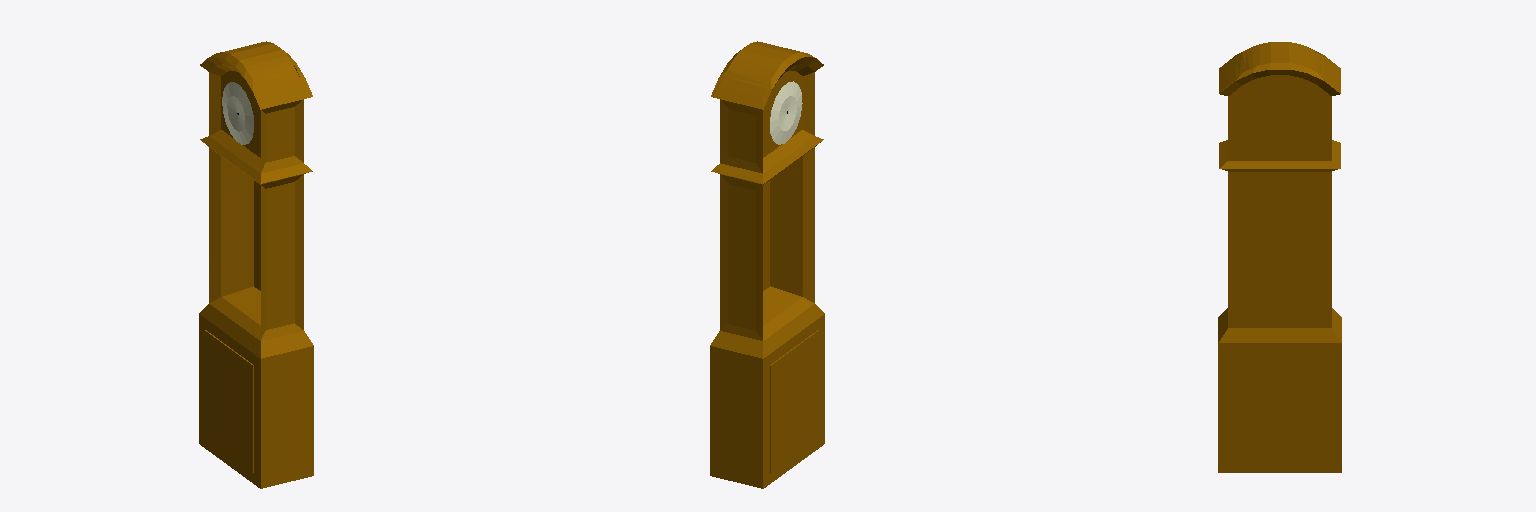
3 views of the same model, side by side, from view 1: azimuth 30°, elevation 25°; view 2: azimuth 150°, elevation 25°; view 3: azimuth 270°, elevation 25° (orthographic).
Visible parts, largest first — view 1: mueble:facebutton_clocktexture1; view 2: mueble:facebutton_clocktexture1; view 3: mueble:facebutton_clocktexture1.
Part boxes in pixels (left/top/right/bottom): mueble:facebutton_clocktexture1: left=199, top=41, right=313, bottom=488; mueble:facebutton_clocktexture1: left=710, top=41, right=824, bottom=488; mueble:facebutton_clocktexture1: left=1218, top=42, right=1341, bottom=472.
Bounding box in the file's own units: 0.8968 × 6.38 × 1.75.
Materials: 3 (2 with a texture image).